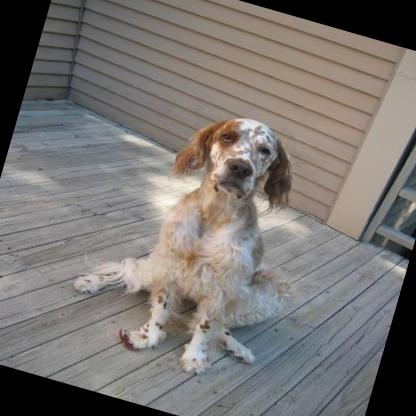English_setter: (55, 81, 331, 390)
